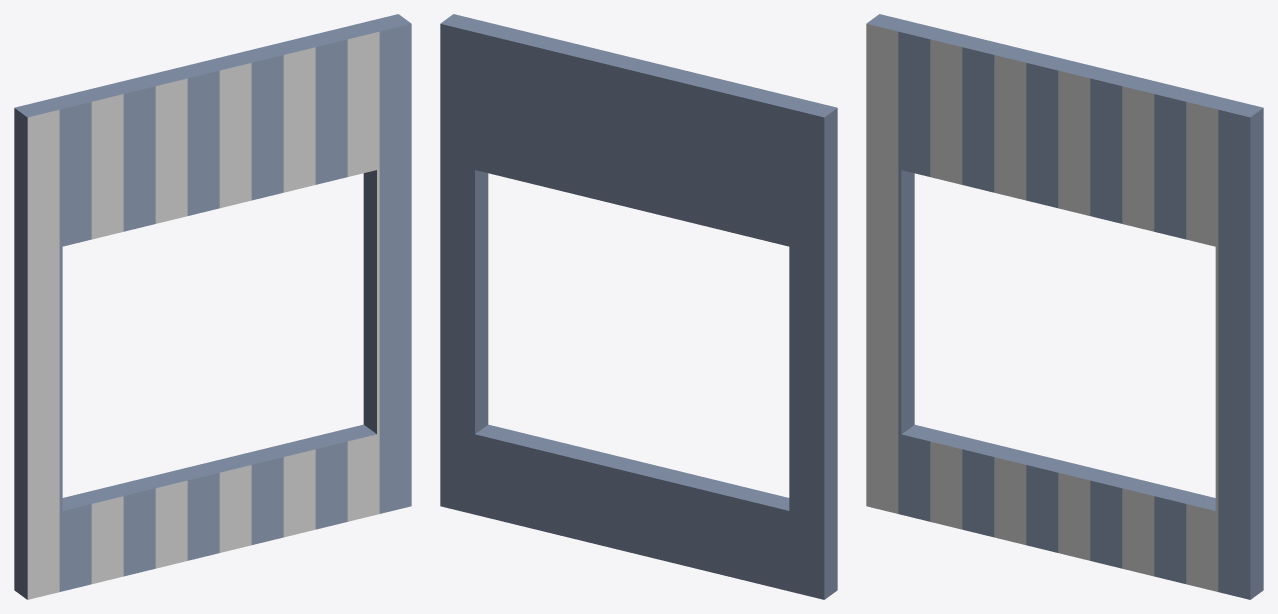
Rendered from Wall3_C8_05.fbx.
3 views of the same model, side by side, from view 1: azimuth 30°, elevation 25°; view 2: azimuth 150°, elevation 25°; view 3: azimuth 330°, elevation 25° (orthographic).
Parts seen in each view (by area): view 1: Wall3_C8_05; view 2: Wall3_C8_05; view 3: Wall3_C8_05.
Part boxes in pixels (box(x1,y1,x2,y2)): Wall3_C8_05: box(14, 14, 411, 599); Wall3_C8_05: box(440, 14, 837, 599); Wall3_C8_05: box(866, 14, 1263, 599).
Size of the model in its own units: 250 by 300 by 15.
